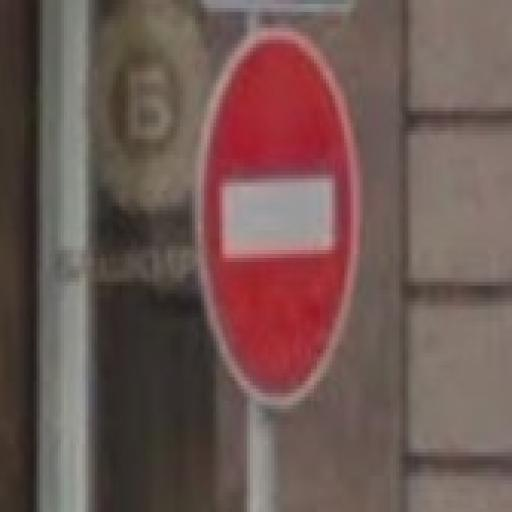traffic_sign: (196, 29, 361, 410)
